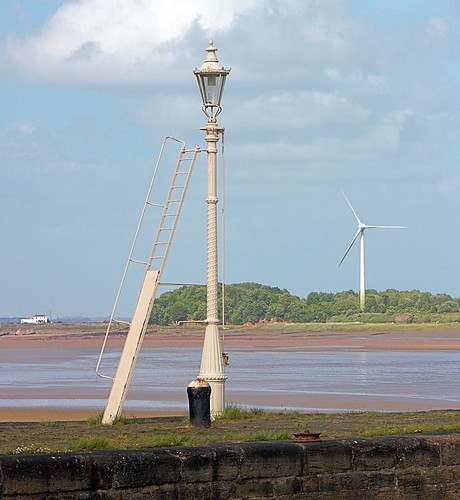light pole: (179, 40, 240, 420)
river: (6, 341, 460, 397)
sky: (3, 1, 460, 290)
vegetation: (156, 282, 451, 322)
wind turbine: (335, 196, 403, 303)
